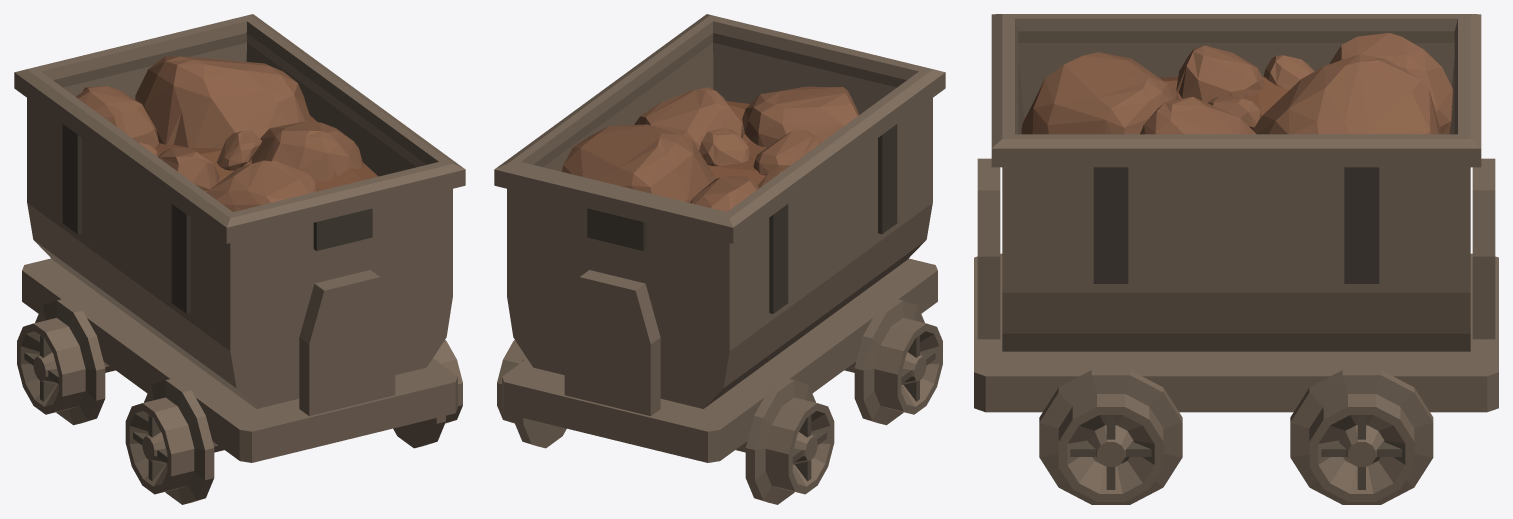
Rendered from SM_Prop_Cart_01.glb.
The picture shows the model from 3 angles, left to right: view 1: azimuth 30°, elevation 25°; view 2: azimuth 150°, elevation 25°; view 3: azimuth 270°, elevation 25°; orthographic projection. The views are drawn at different scales.
Parts seen in each view (by area): view 1: SM_Prop_Cart_01_Bucket, SM_Prop_Cart_01, SM_Prop_Cart_01_Rocks, SM_Prop_Cart_01_Wheel_F, SM_Prop_Cart_01_Wheel_R; view 2: SM_Prop_Cart_01_Bucket, SM_Prop_Cart_01, SM_Prop_Cart_01_Rocks, SM_Prop_Cart_01_Wheel_R, SM_Prop_Cart_01_Wheel_F; view 3: SM_Prop_Cart_01_Bucket, SM_Prop_Cart_01, SM_Prop_Cart_01_Rocks, SM_Prop_Cart_01_Wheel_F, SM_Prop_Cart_01_Wheel_R.
Boxes of the visible parts, x1,y1,x2,y2 form: SM_Prop_Cart_01_Bucket: [14, 14, 465, 408]; SM_Prop_Cart_01: [22, 258, 457, 462]; SM_Prop_Cart_01_Rocks: [76, 56, 378, 211]; SM_Prop_Cart_01_Wheel_F: [125, 340, 462, 504]; SM_Prop_Cart_01_Wheel_R: [17, 298, 115, 425]; SM_Prop_Cart_01_Bucket: [494, 14, 945, 408]; SM_Prop_Cart_01: [502, 258, 937, 462]; SM_Prop_Cart_01_Rocks: [561, 86, 859, 211]; SM_Prop_Cart_01_Wheel_R: [497, 340, 834, 504]; SM_Prop_Cart_01_Wheel_F: [844, 298, 942, 425]; SM_Prop_Cart_01_Bucket: [991, 14, 1481, 351]; SM_Prop_Cart_01: [974, 158, 1498, 412]; SM_Prop_Cart_01_Rocks: [1021, 33, 1453, 134]; SM_Prop_Cart_01_Wheel_F: [1039, 370, 1182, 504]; SM_Prop_Cart_01_Wheel_R: [1290, 370, 1433, 504].
Size of the model in its own units: 0.8934 by 0.9624 by 1.21.
5 materials, 5 textured.
